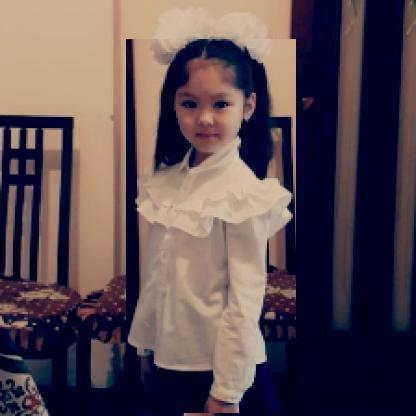child: (127, 40, 298, 415)
